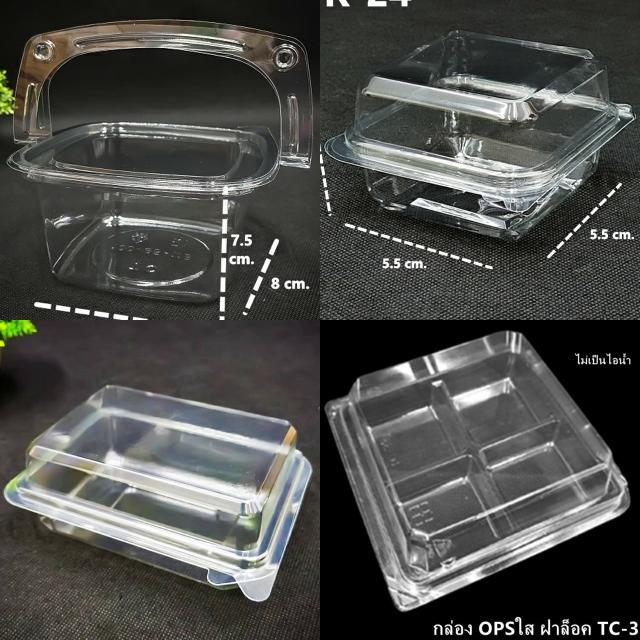Single-Use-Plastic: (8, 20, 314, 318), (326, 331, 629, 610), (5, 385, 311, 601), (325, 31, 635, 238)
